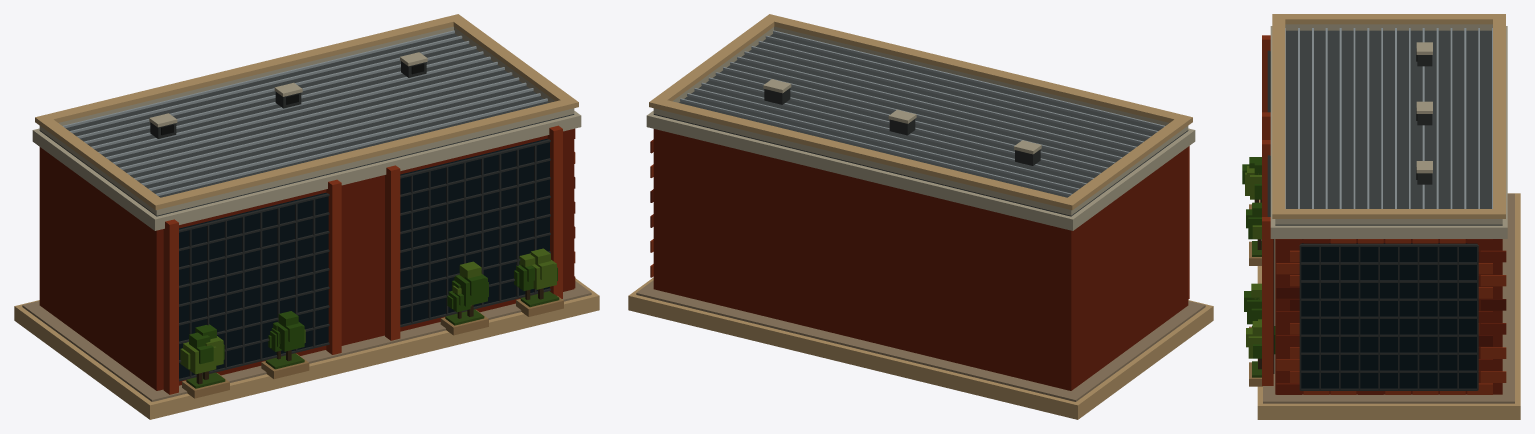
The model's file is SM_Mapa_038.fbx.
3 renders of one model, left to right at view 1: azimuth 30°, elevation 25°; view 2: azimuth 150°, elevation 25°; view 3: azimuth 270°, elevation 25°, orthographic. The views are drawn at different scales.
Visible parts, largest first — view 1: SM_Mapa_038; view 2: SM_Mapa_038; view 3: SM_Mapa_038.
Boxes of the visible parts, x1=… form: SM_Mapa_038: x1=14, y1=14, x2=599, y2=419; SM_Mapa_038: x1=628, y1=14, x2=1213, y2=419; SM_Mapa_038: x1=1242, y1=14, x2=1520, y2=419.
Size of the model in its own units: 24 by 13.27 by 10.91.
